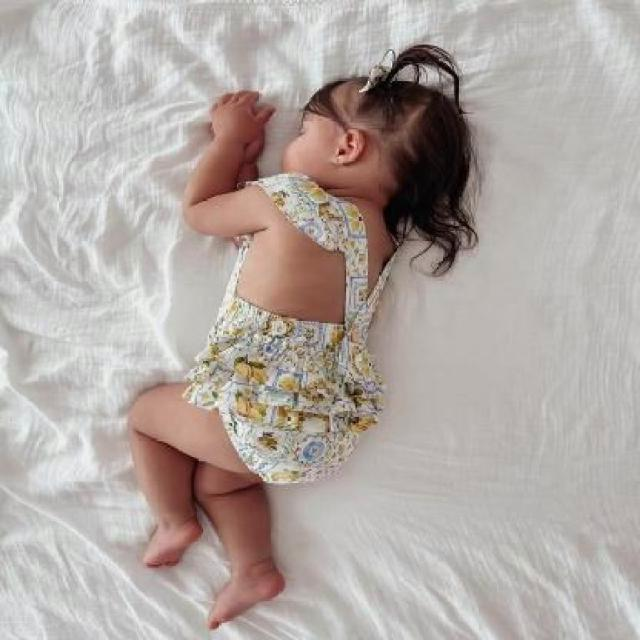child: (134, 74, 474, 625)
